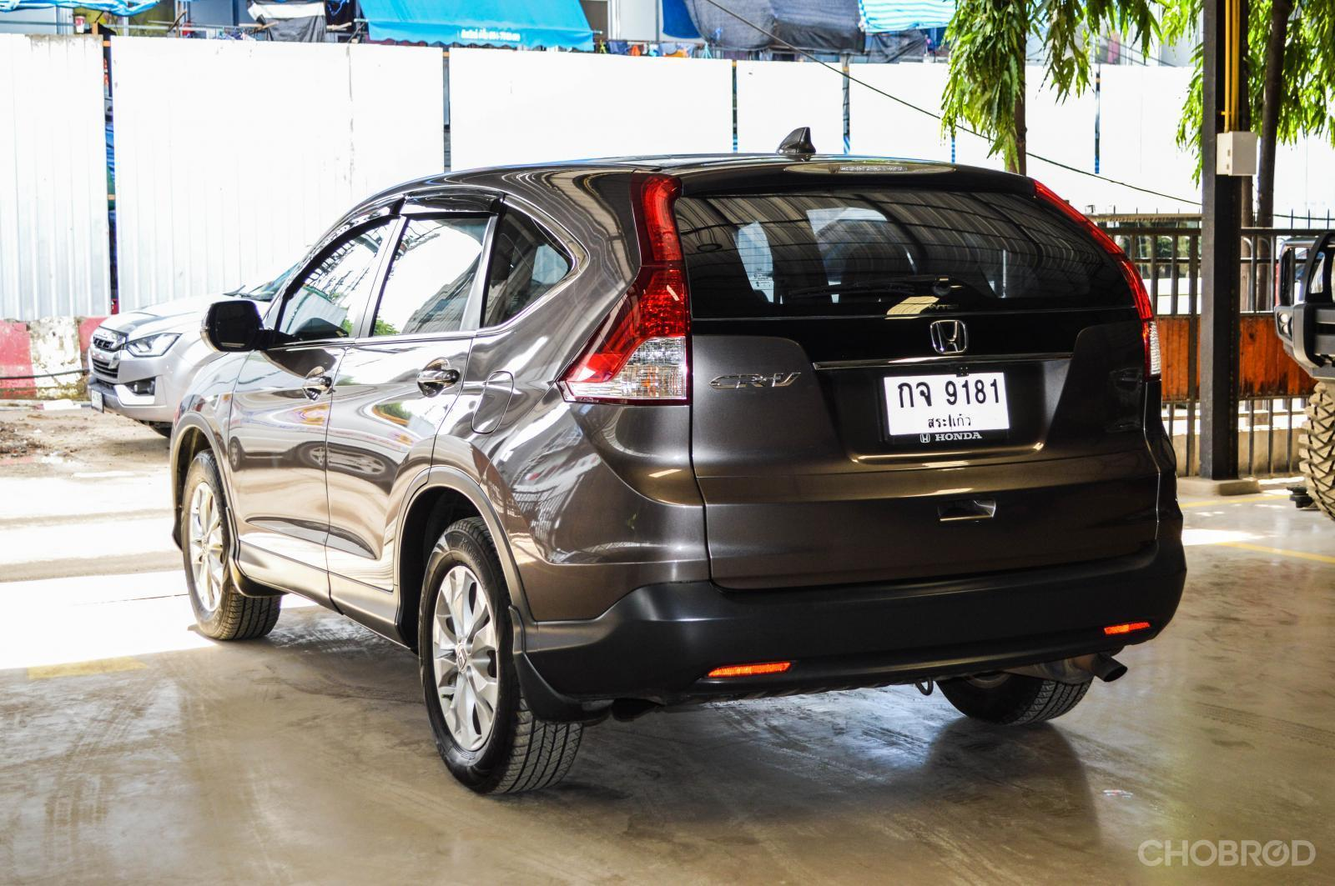license-plate: (879, 368, 1012, 443)
